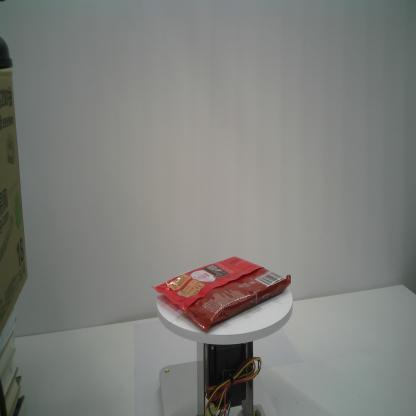Dessert: (151, 256, 292, 333)
